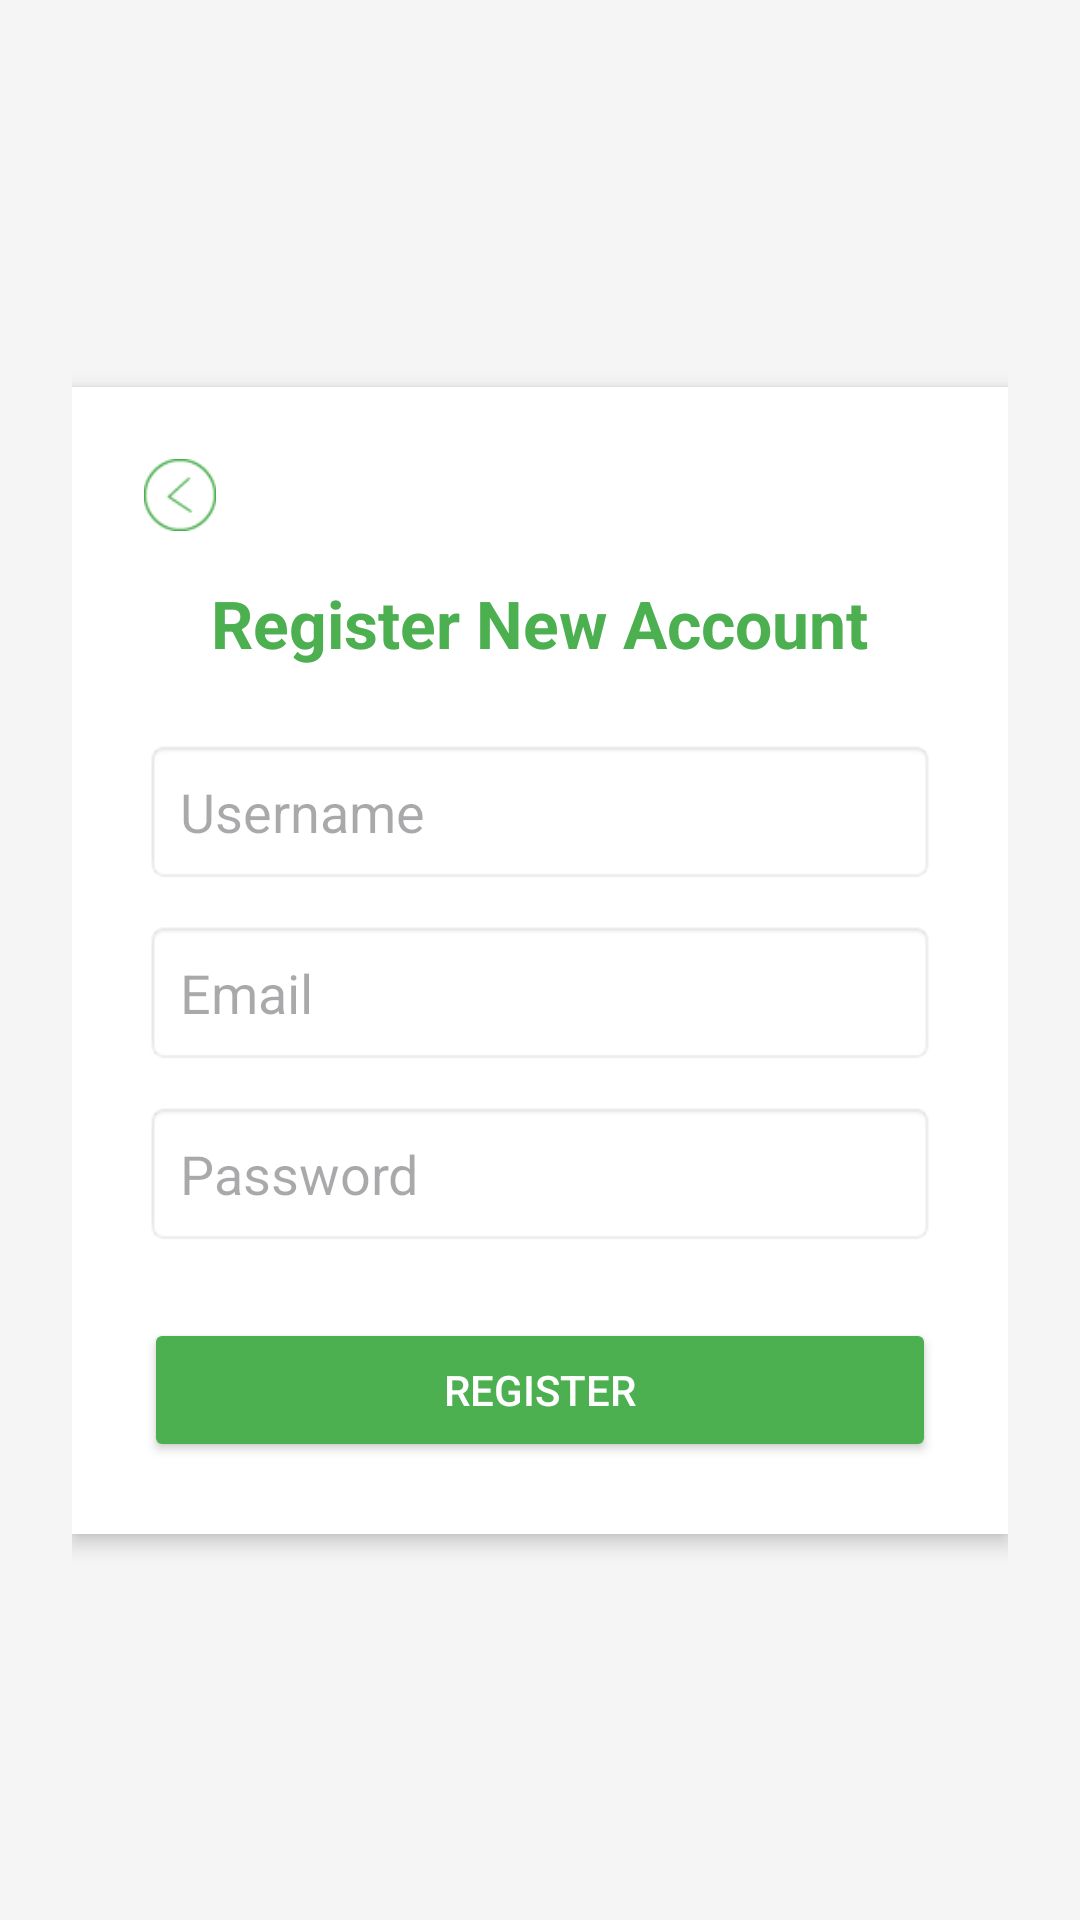

Screen size 1080 x 1920. Icon name, then its center in pixels as (x=x, y=y):
Back: (x=180, y=495)
